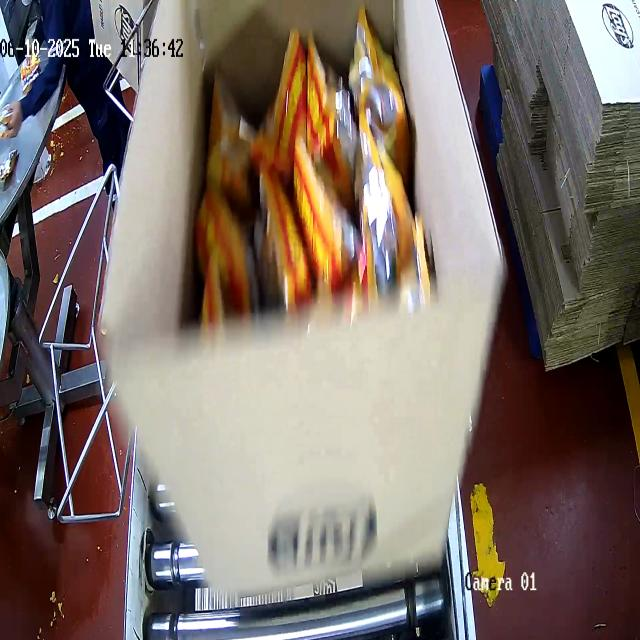FRENCH_CHEESE: (199, 36, 411, 320)
